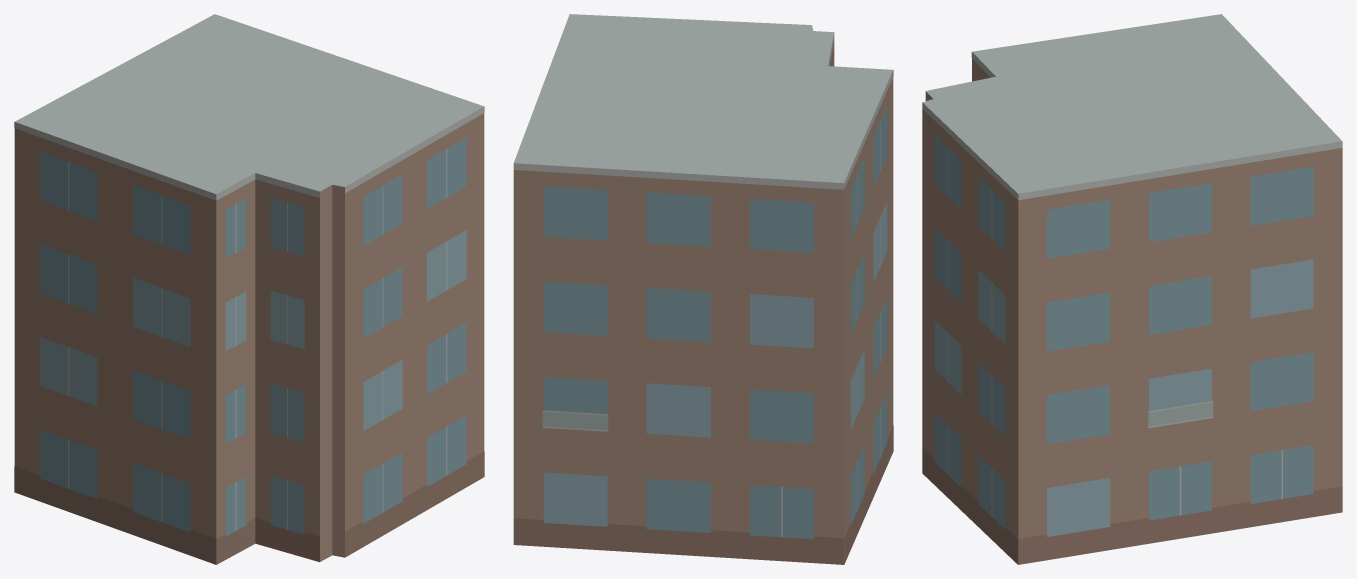
File: survey-upis-32835030.glb
3 views of the same model, side by side, from view 1: azimuth 30°, elevation 25°; view 2: azimuth 150°, elevation 25°; view 3: azimuth 270°, elevation 25° (orthographic). The views are drawn at different scales.
Parts seen in each view (by area): view 1: survey-upis-32835030.tmp; view 2: survey-upis-32835030.tmp; view 3: survey-upis-32835030.tmp.
Boxes of the visible parts, x1,y1,x2,y2 form: survey-upis-32835030.tmp: (14,14,484,564); survey-upis-32835030.tmp: (513,14,893,564); survey-upis-32835030.tmp: (922,14,1342,564).
Size of the model in its own units: 14.67 by 14.1 by 14.48.
